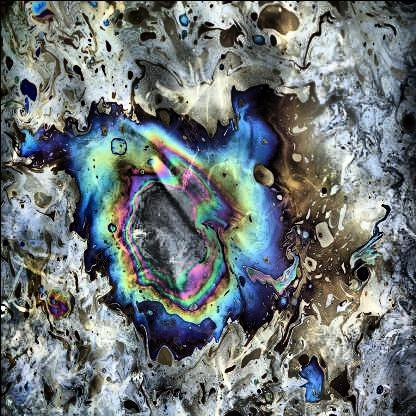rainbow: (21, 87, 299, 360)
